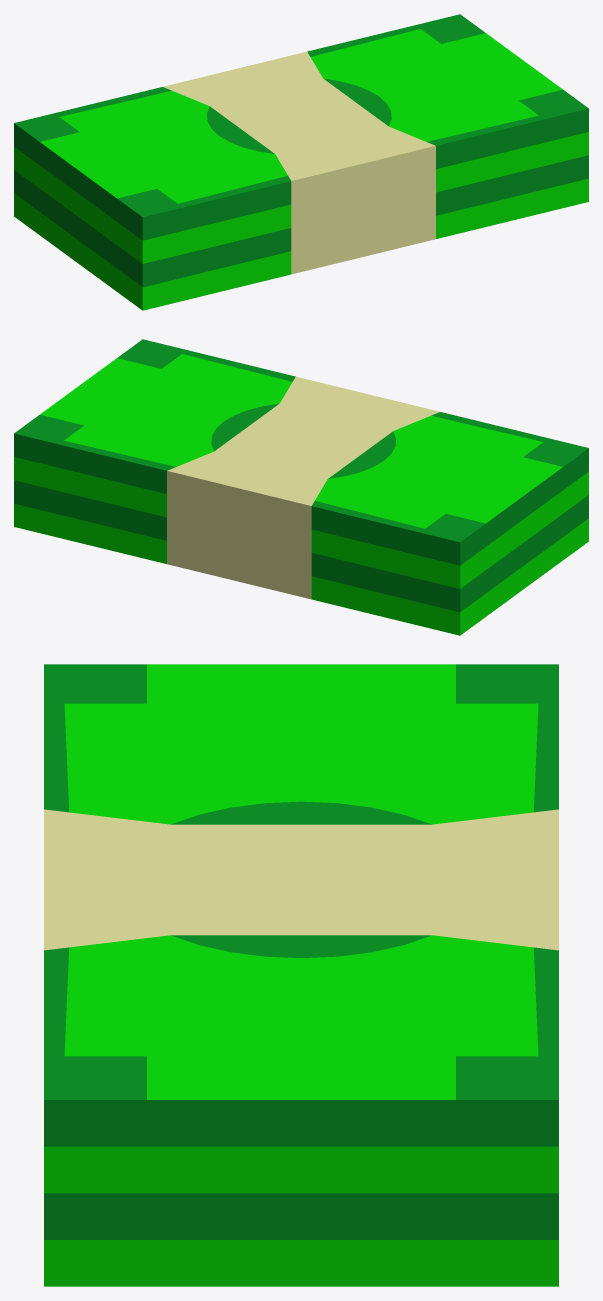
File: Money.fbx
3 views of the same model, one above another, from view 1: azimuth 30°, elevation 25°; view 2: azimuth 150°, elevation 25°; view 3: azimuth 270°, elevation 25° (orthographic). The views are drawn at different scales.
Visible parts, largest first — view 1: pCube1; view 2: pCube1; view 3: pCube1.
Part boxes in pixels (x1,y1,x2,y2): pCube1: (14, 14, 588, 310); pCube1: (14, 339, 588, 635); pCube1: (44, 664, 558, 1286).
Size of the model in its own units: 1 by 0.2 by 0.5.
